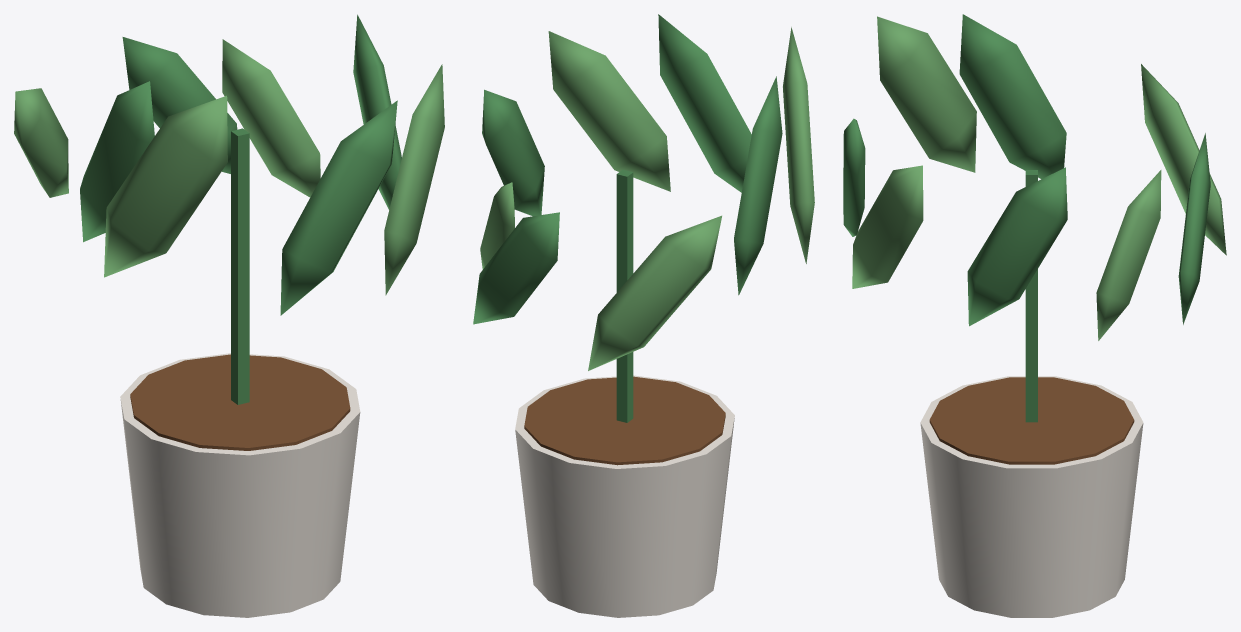
Rendered from plant_pot.glb.
The picture shows the model from 3 angles, left to right: view 1: azimuth 30°, elevation 25°; view 2: azimuth 150°, elevation 25°; view 3: azimuth 270°, elevation 25°; orthographic projection. The views are drawn at different scales.
Parts seen in each view (by area): view 1: plant_pot; view 2: plant_pot; view 3: plant_pot.
Boxes of the visible parts, <box> form: plant_pot: <box>14,14,444,617</box>; plant_pot: <box>473,14,814,617</box>; plant_pot: <box>843,14,1226,617</box>.
Bounding box in the file's own units: 0.5319 × 0.925 × 0.6187.
Materials: 1 (1 with a texture image).
